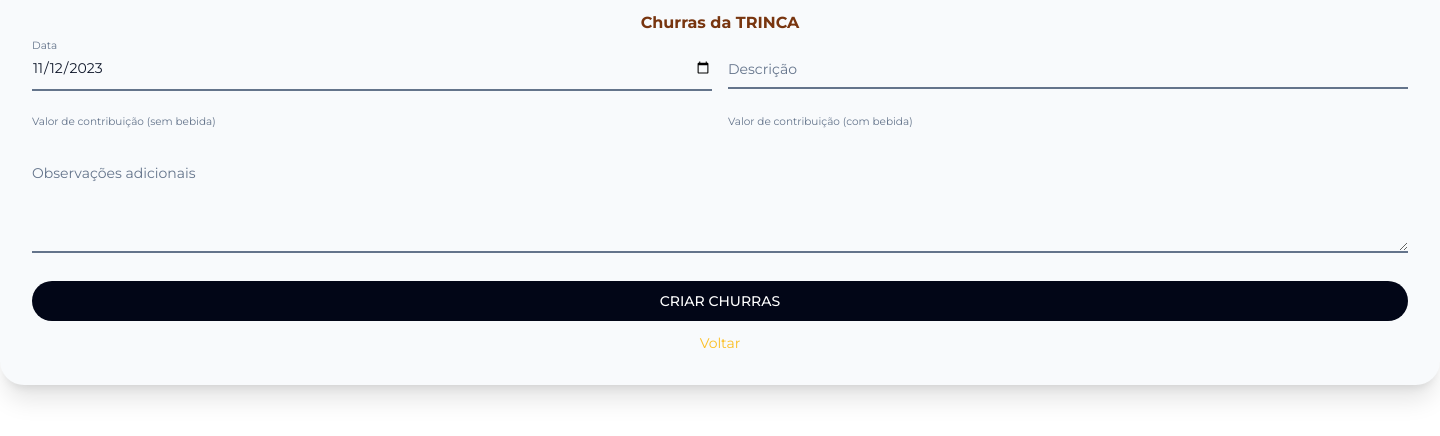
Test: <BarbecueCreatePage /> › should click button correctly submit form in Barbecue Create Page
Submit the form from the button, box x1=32 y1=281 x2=1408 y2=321
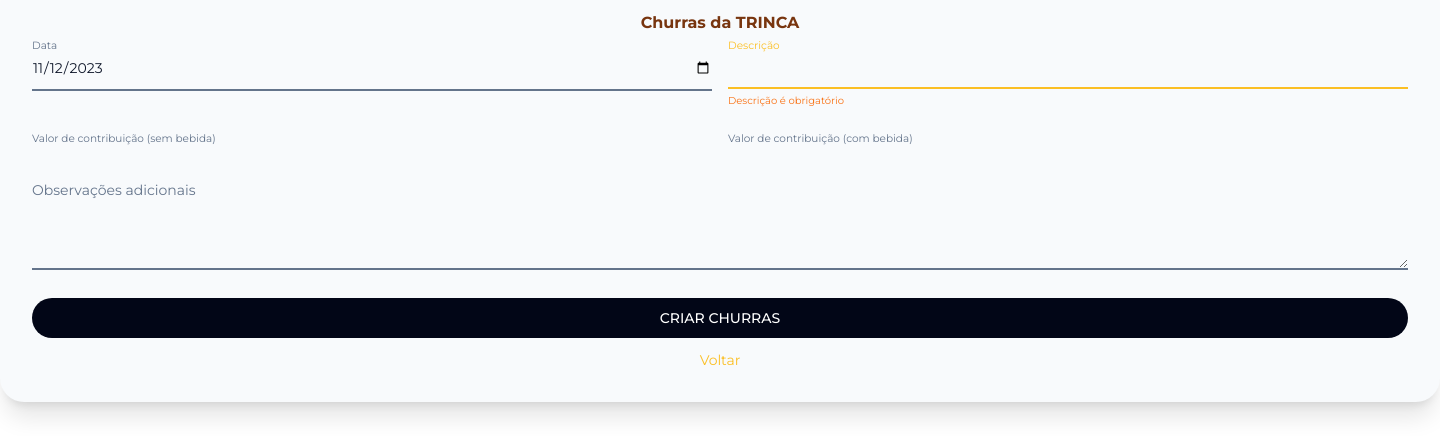
Now the text "Descrição é obrigatório" is shown, box x1=728 y1=94 x2=844 y2=107
Type "Teste" into the field labelled "Descrição" at [1068, 68], box x1=728 y1=47 x2=1408 y2=89
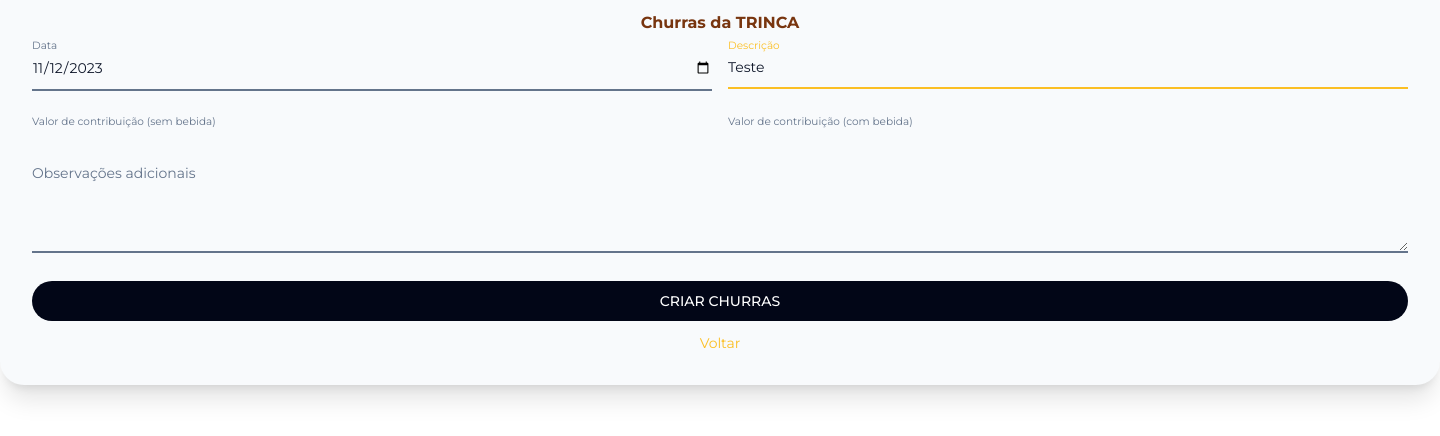
Now the message "Descrição é obrigatório" is gone
